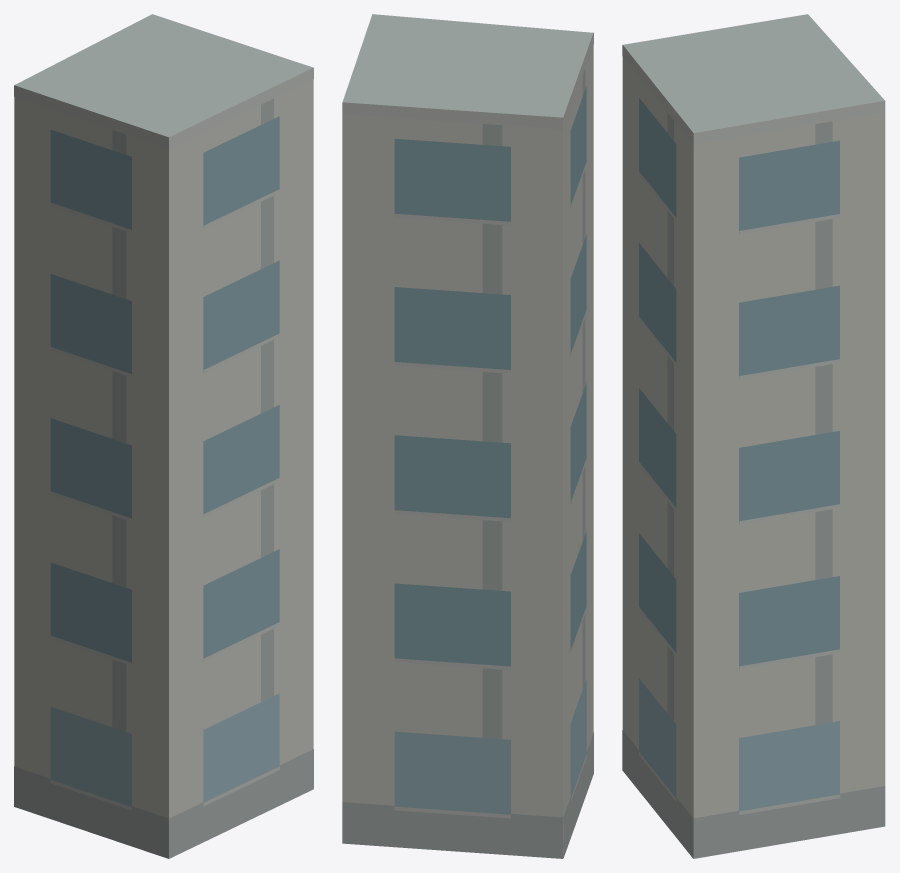
Rendered from survey-upis-32701089.glb.
3 views of the same model, side by side, from view 1: azimuth 30°, elevation 25°; view 2: azimuth 150°, elevation 25°; view 3: azimuth 270°, elevation 25° (orthographic). The views are drawn at different scales.
Visible parts, largest first — view 1: survey-upis-32701089.tmp; view 2: survey-upis-32701089.tmp; view 3: survey-upis-32701089.tmp.
Part boxes in pixels (box(x1,y1,x2,y2)): survey-upis-32701089.tmp: box(14, 14, 313, 858); survey-upis-32701089.tmp: box(342, 14, 593, 858); survey-upis-32701089.tmp: box(622, 14, 885, 858).
Size of the model in its own units: 5.38 by 15.25 by 5.01.
